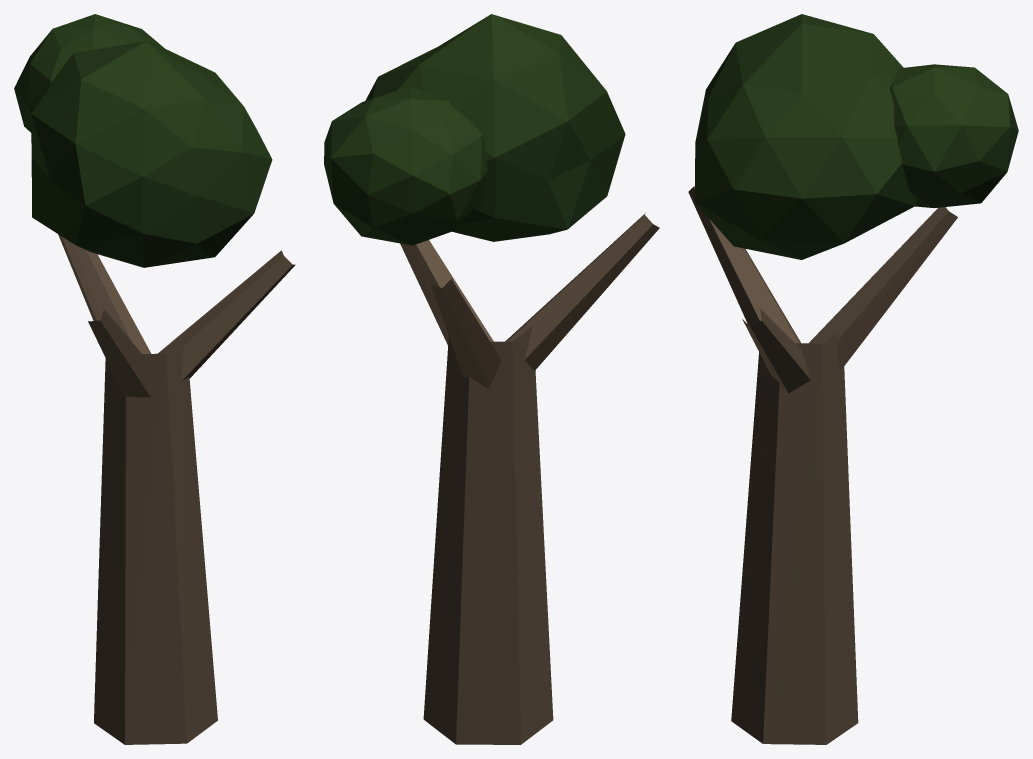
Rendered from 1964-Forest-trees-painted-woods-broadleaf-1.glb.
3 renders of one model, left to right at view 1: azimuth 30°, elevation 25°; view 2: azimuth 150°, elevation 25°; view 3: azimuth 270°, elevation 25°, orthographic. The views are drawn at different scales.
Visible parts, largest first — view 1: Forest trees (painted woods)/broadleaf/1; view 2: Forest trees (painted woods)/broadleaf/1; view 3: Forest trees (painted woods)/broadleaf/1.
Part boxes in pixels (x1=…): Forest trees (painted woods)/broadleaf/1: x1=14, y1=14, x2=295, y2=744; Forest trees (painted woods)/broadleaf/1: x1=324, y1=14, x2=659, y2=744; Forest trees (painted woods)/broadleaf/1: x1=688, y1=14, x2=1018, y2=744.
Bounding box in the file's own units: 0.2618 × 0.7272 × 0.3128.
